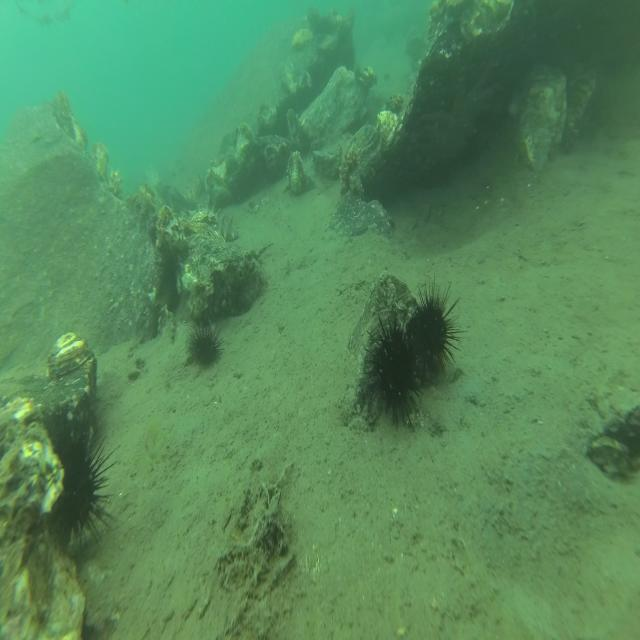echinus: (48, 412, 119, 551), (363, 303, 425, 431), (412, 272, 468, 376), (187, 320, 226, 371), (316, 10, 334, 35), (347, 39, 357, 70), (384, 73, 391, 81)
holothurian: (188, 198, 240, 242)
starfish: (418, 62, 499, 165)
